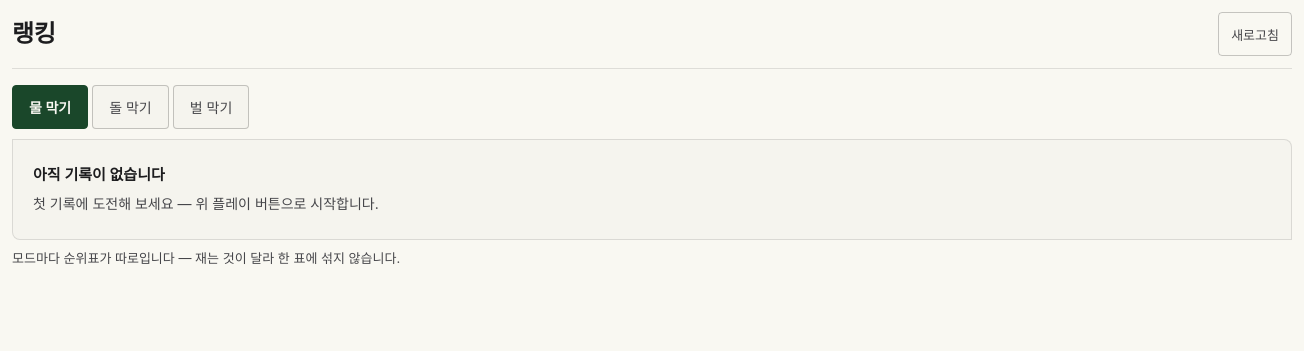
it: 게임 상세 랭킹 › 모드를 나눈 게임 › 고른 모드에 기록이 없어도 탭은 남는다 — 사라지면 다른 모드로 갈 길이 없다
Expected: the text "아직 기록이 없습니다" is shown, x1=33 y1=165 x2=165 y2=184
Click the tab "돌 막기".
click(130, 107)  # box x1=92 y1=85 x2=169 y2=129
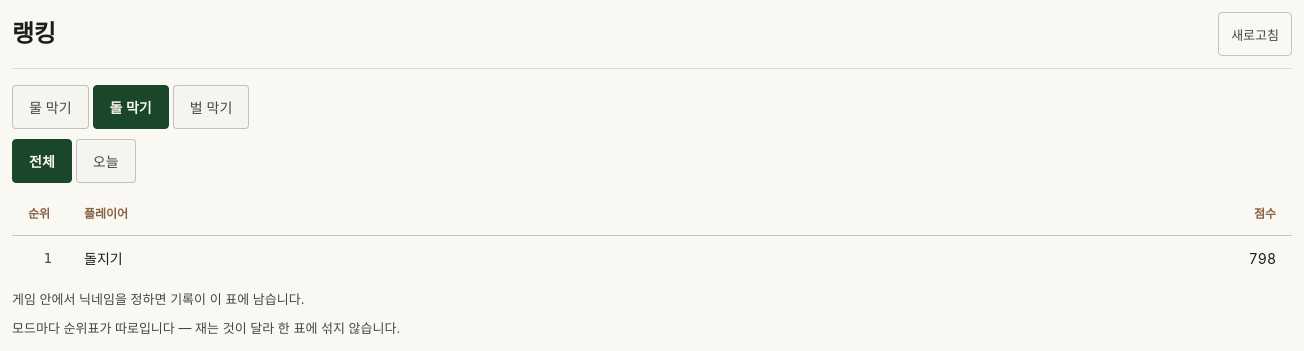
Result: the text "돌지기" is shown at x1=84 y1=250 x2=123 y2=267
